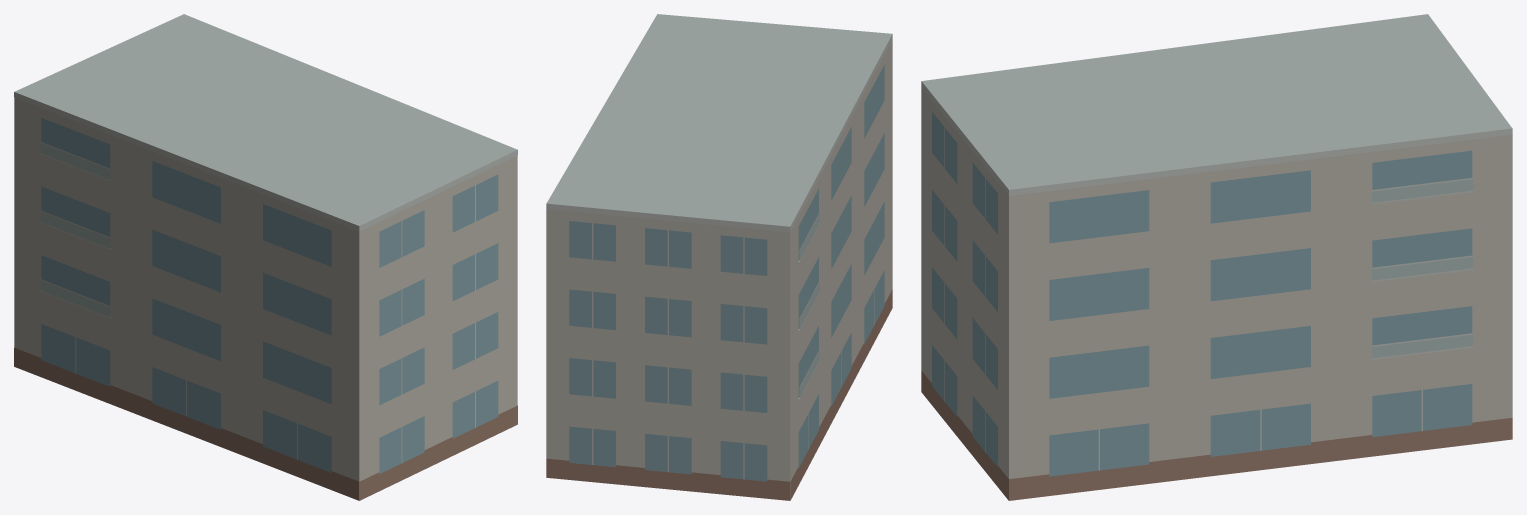
File: survey-upis-32505463.glb
The picture shows the model from 3 angles, left to right: view 1: azimuth 30°, elevation 25°; view 2: azimuth 150°, elevation 25°; view 3: azimuth 270°, elevation 25°; orthographic projection. The views are drawn at different scales.
Visible parts, largest first — view 1: survey-upis-32505463.tmp; view 2: survey-upis-32505463.tmp; view 3: survey-upis-32505463.tmp.
Part boxes in pixels (bbox=[...]): survey-upis-32505463.tmp: bbox=[14, 14, 517, 500]; survey-upis-32505463.tmp: bbox=[546, 14, 892, 500]; survey-upis-32505463.tmp: bbox=[921, 14, 1512, 500].
Size of the model in its own units: 14.81 by 12.2 by 21.03.
